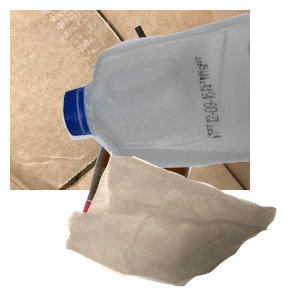cardboard: (10, 10, 250, 190)
glass: (68, 120, 255, 300)
plastic: (60, 10, 300, 175)
trash: (63, 149, 300, 300)
